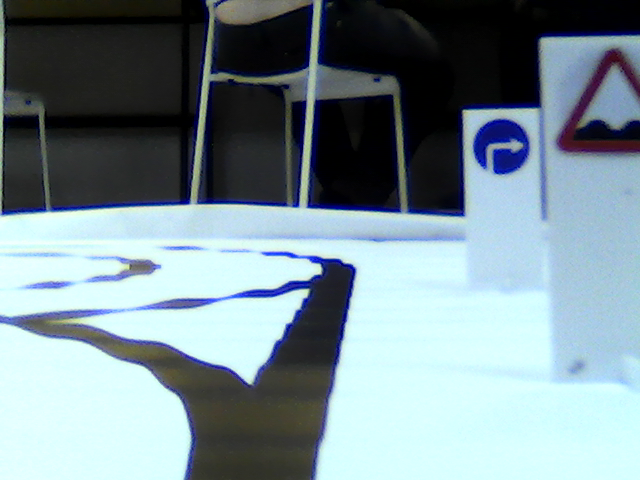Nerov: (557, 49, 640, 160)
Right: (472, 118, 529, 175)
